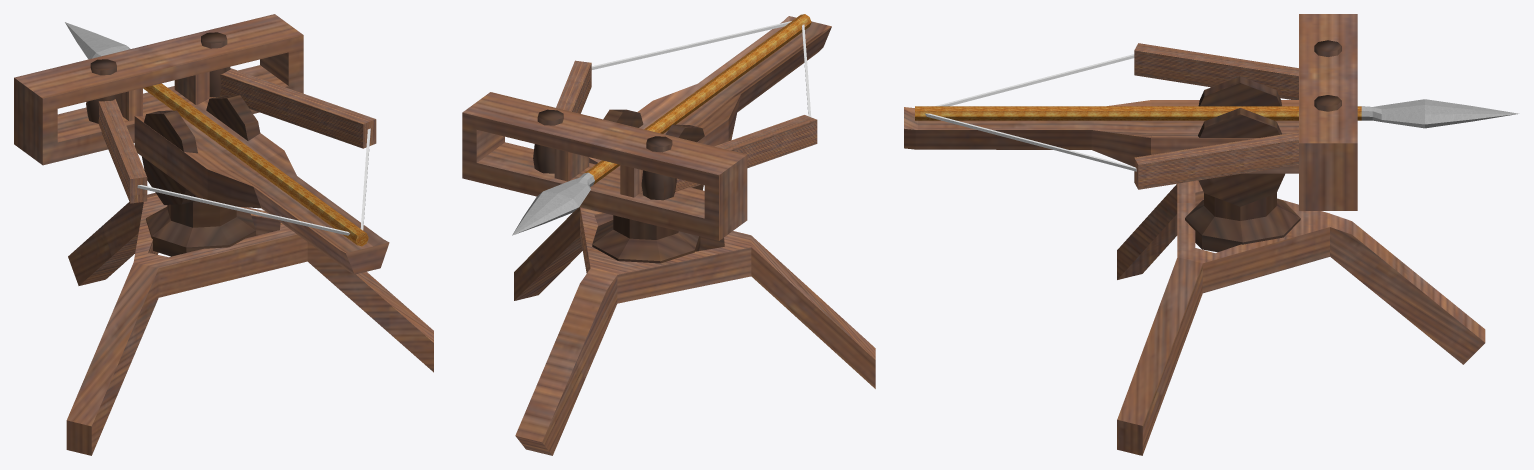
The model's file is HQBallista.fbx.
3 renders of one model, left to right at view 1: azimuth 30°, elevation 25°; view 2: azimuth 150°, elevation 25°; view 3: azimuth 270°, elevation 25°, orthographic. The views are drawn at different scales.
Parts seen in each view (by area): view 1: Cradle, Tripod, Bolt, RArm, LArm, LString; view 2: Cradle, Tripod, Bolt, LArm, RArm, RString; view 3: Cradle, Tripod, Bolt, RArm, LArm, RString, LString.
Boxes of the visible parts, x1,y1,x2,y2 form: Cradle: (14,14,389,274); Tripod: (66,192,433,455); Bolt: (65,22,368,246); RArm: (220,68,376,148); LArm: (98,99,147,203); LString: (137,185,350,235); Cradle: (462,16,831,263); Tripod: (514,207,875,455); Bolt: (512,14,811,235); LArm: (675,115,817,191); RArm: (556,60,591,113); RString: (591,21,791,69); Cradle: (904,14,1357,252); Tripod: (1117,180,1485,455); Bolt: (915,99,1519,128); RArm: (1134,132,1298,189); LArm: (1134,43,1298,99); RString: (925,113,1136,171); LString: (935,54,1134,106).
Bounding box in the file's own units: 1.8 × 2.57 × 1.34.
2 materials, 2 textured.
